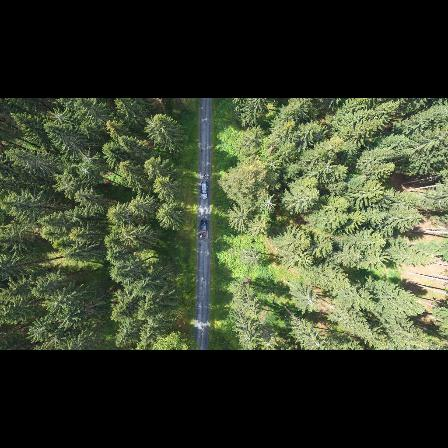Sick: (45, 106, 77, 130), (52, 175, 83, 196), (77, 147, 101, 166), (258, 190, 277, 213), (74, 163, 98, 179)
